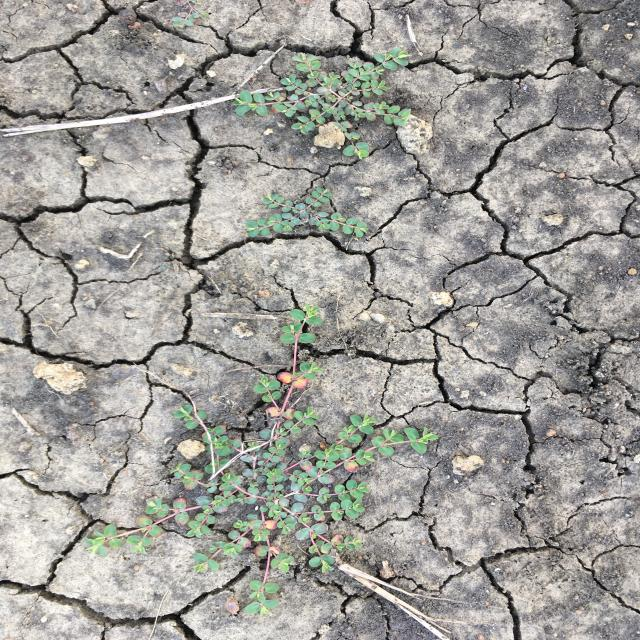SpottedSpurge: (82, 302, 440, 620), (227, 44, 415, 161), (242, 184, 371, 243), (167, 0, 212, 29)
